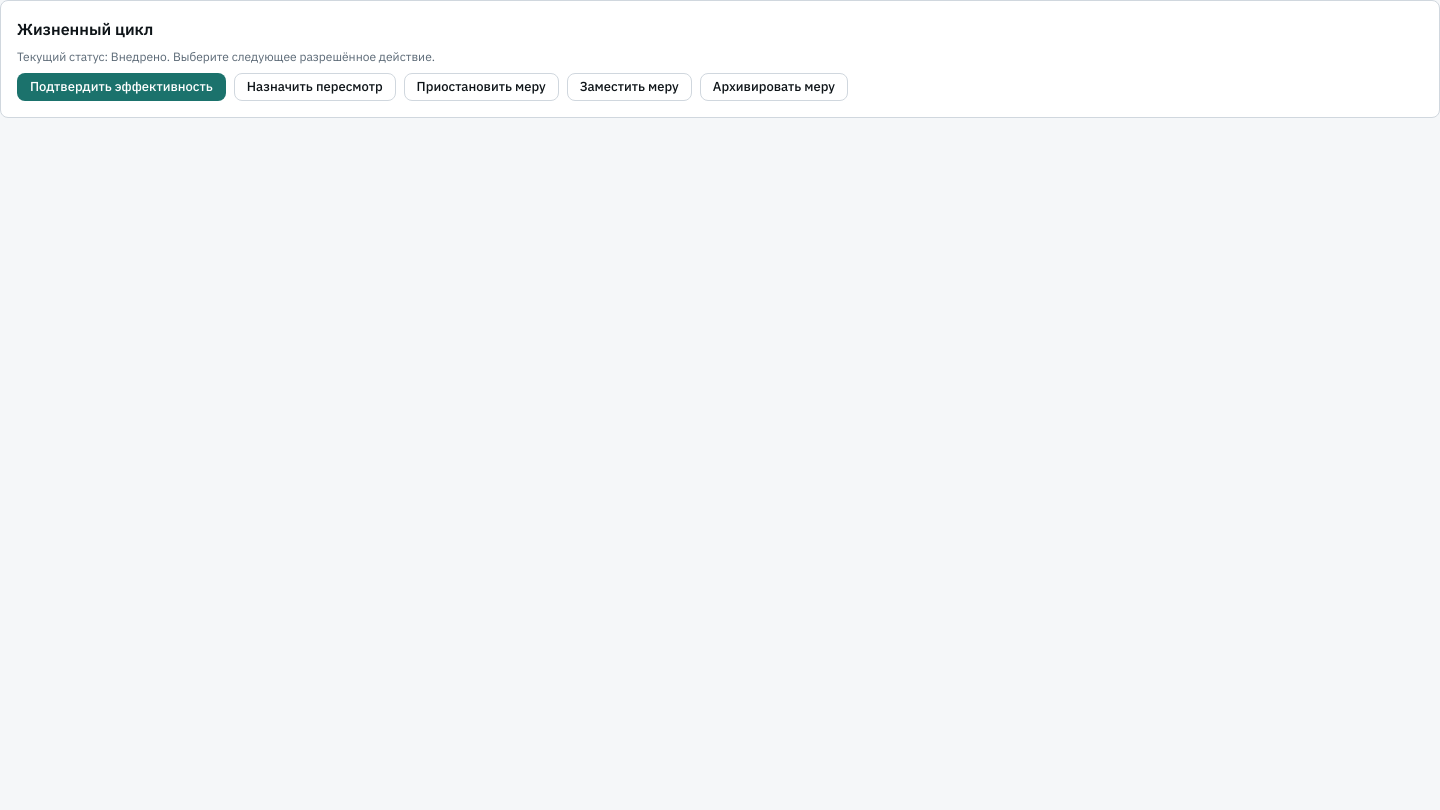
Test: RiskControlLifecycleActions › rejects a non-UUID replacement control ID on supersede
Click the button "Заместить меру" at [629, 87], box [567, 73, 692, 101]
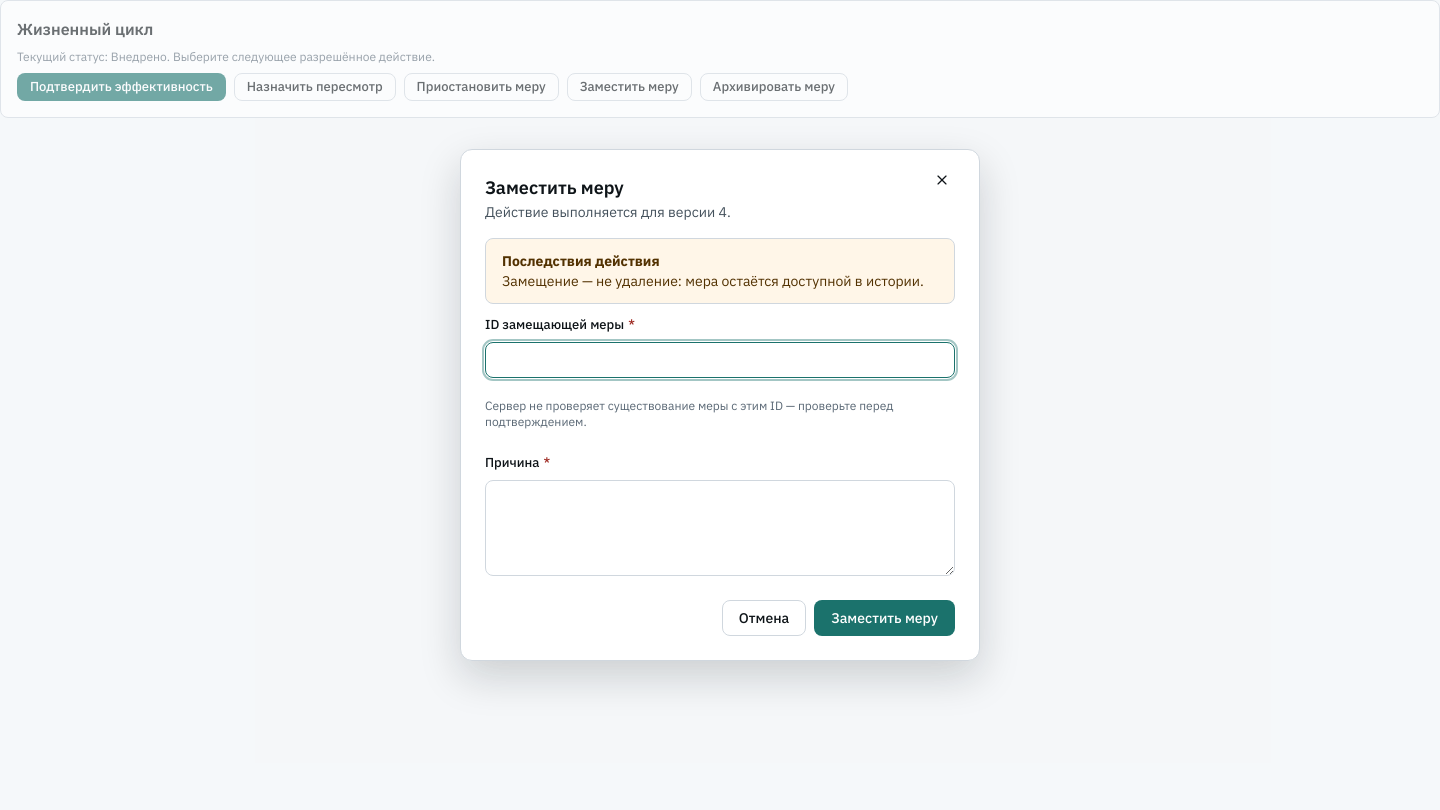
Type "not-a-uuid" into the field labelled "ID замещающей меры*" at [720, 360], box [485, 342, 955, 378]
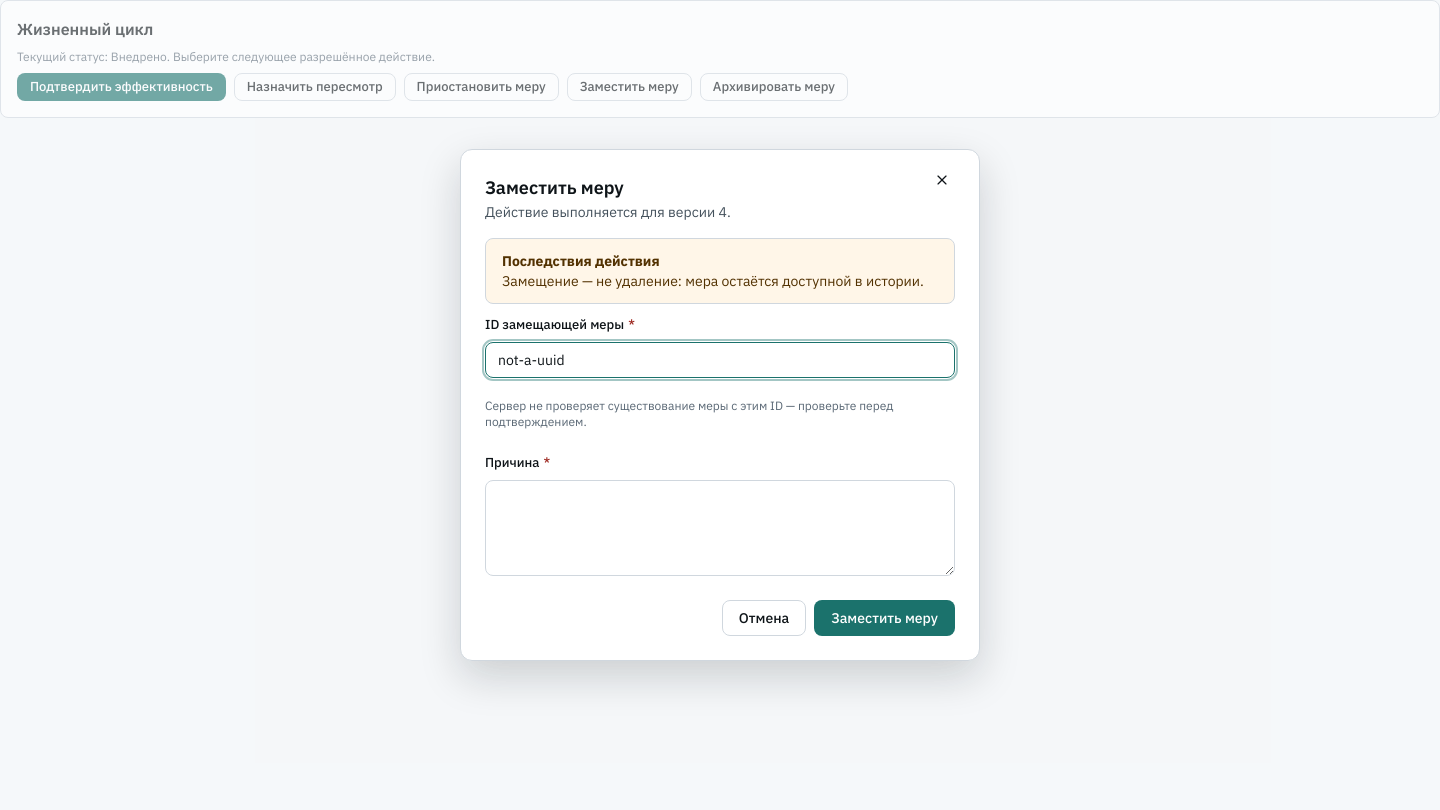
Type "Redesigned" into the text box labelled "Причина*" at [720, 528], box [485, 480, 955, 576]
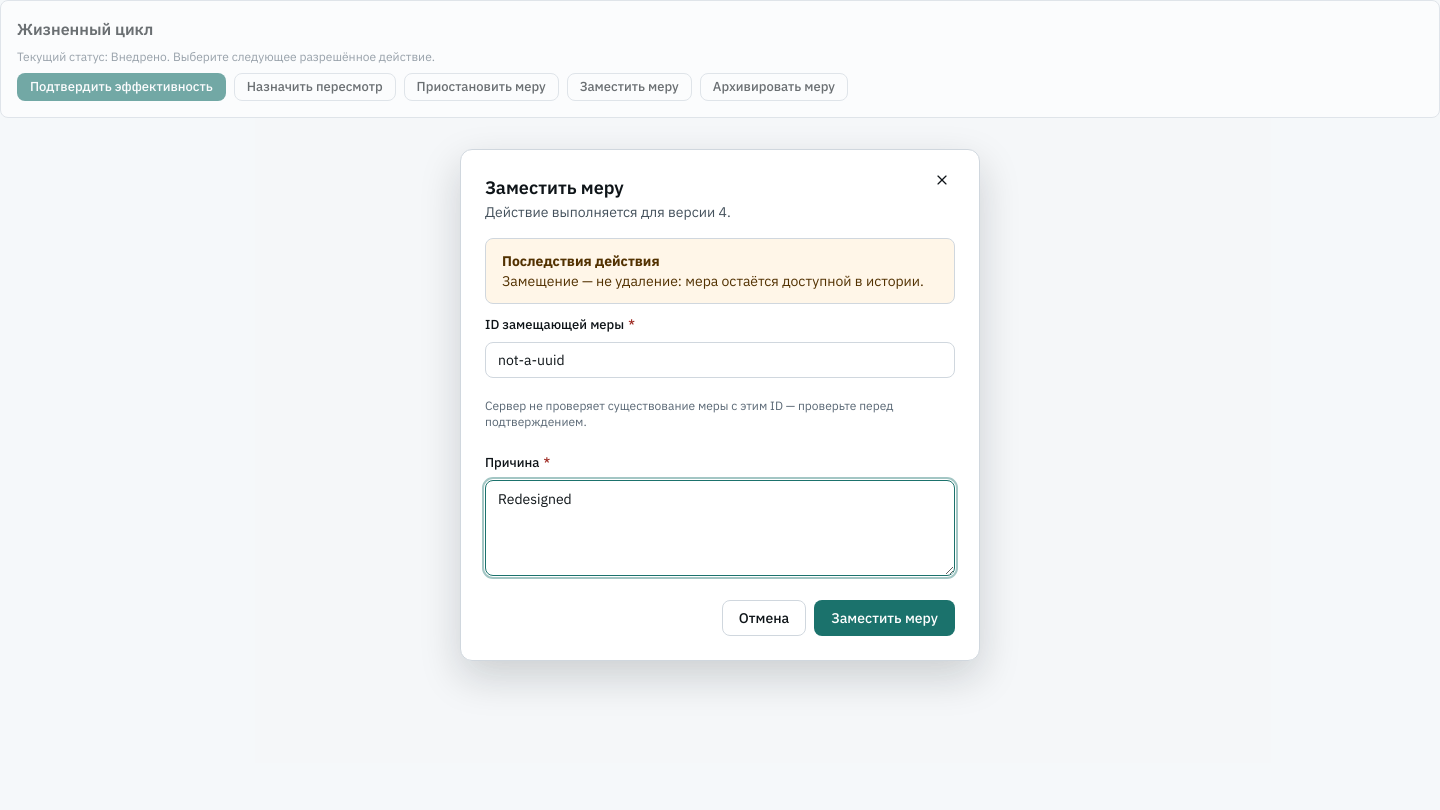
Click the button "Заместить меру" at [885, 618], box [814, 600, 955, 636]
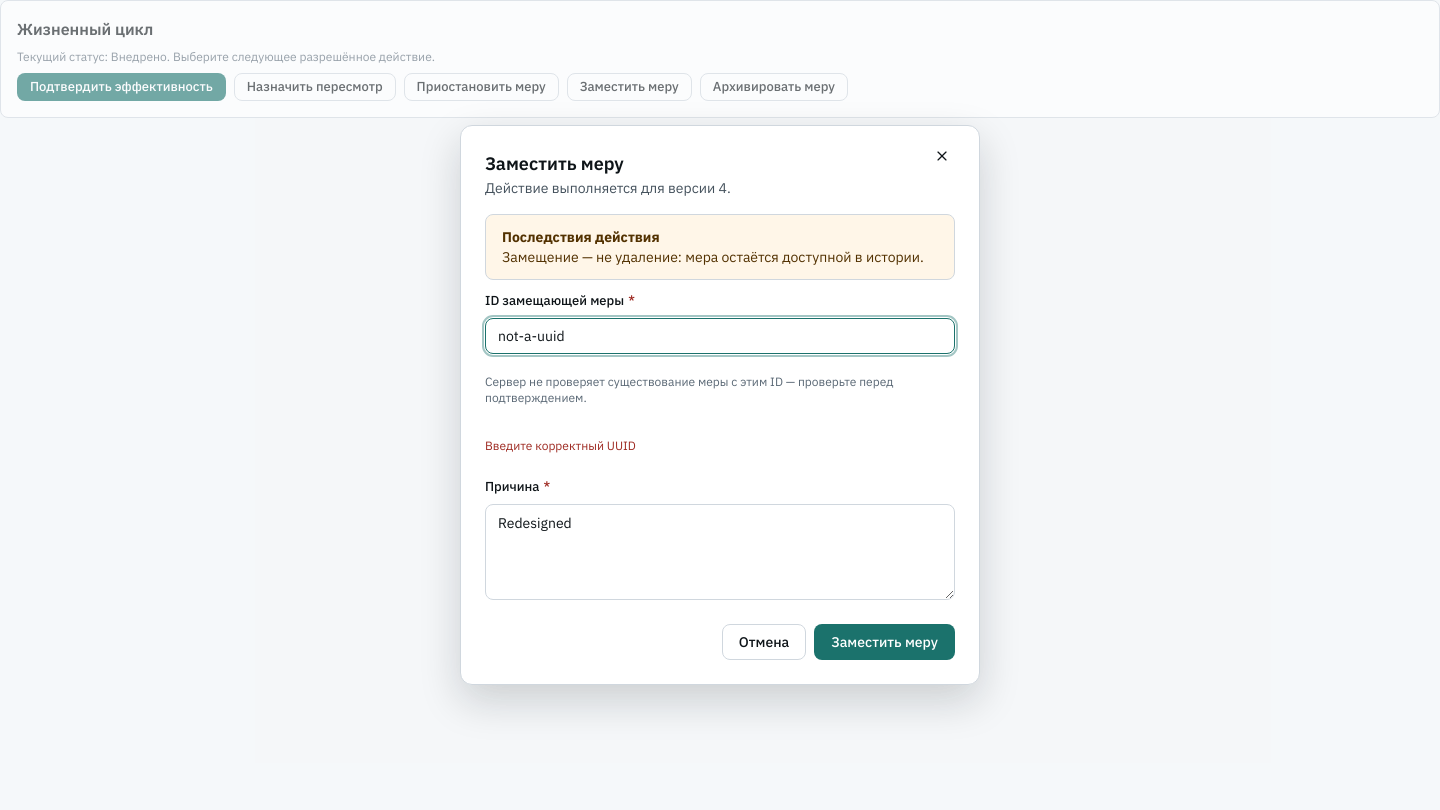
Expected: the text "Введите корректный UUID" is shown, [485, 438, 636, 453]
